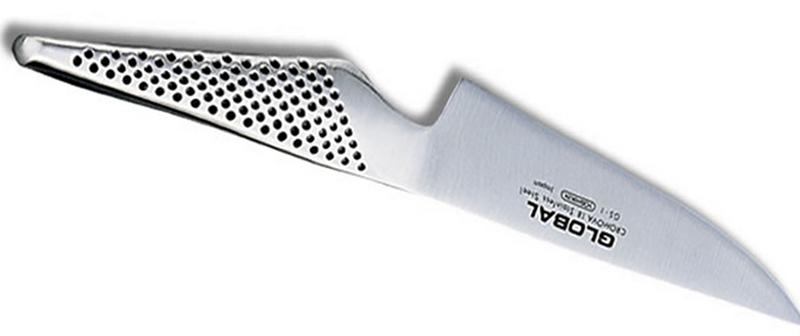knife: (10, 32, 800, 326)
